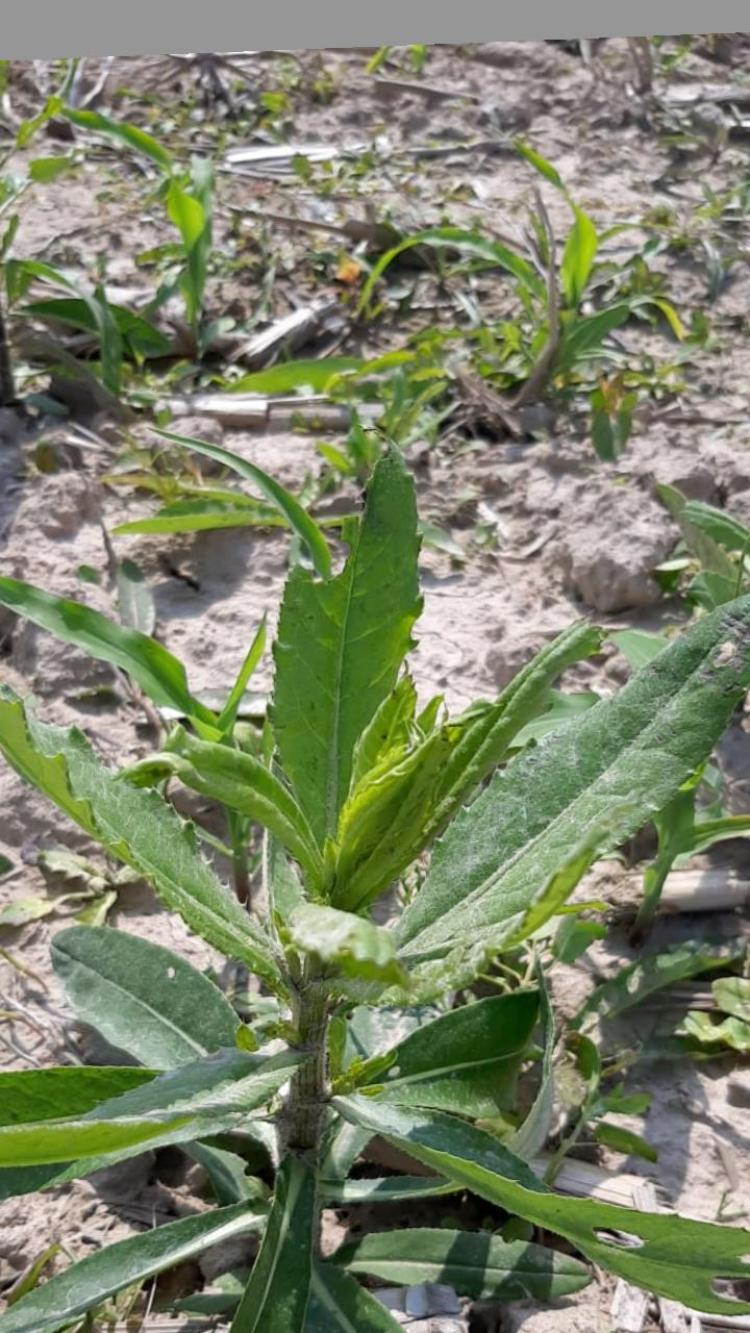osot: (14, 441, 750, 1333)
